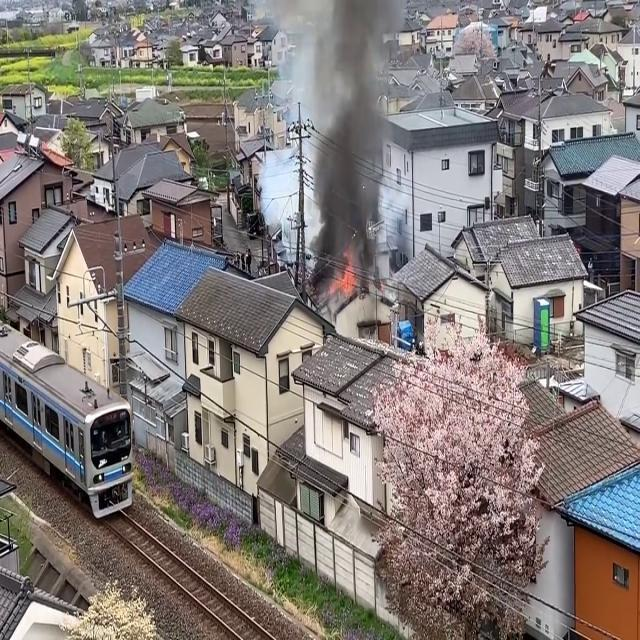Fire: (330, 252, 360, 302)
Smoke: (307, 0, 396, 276)
